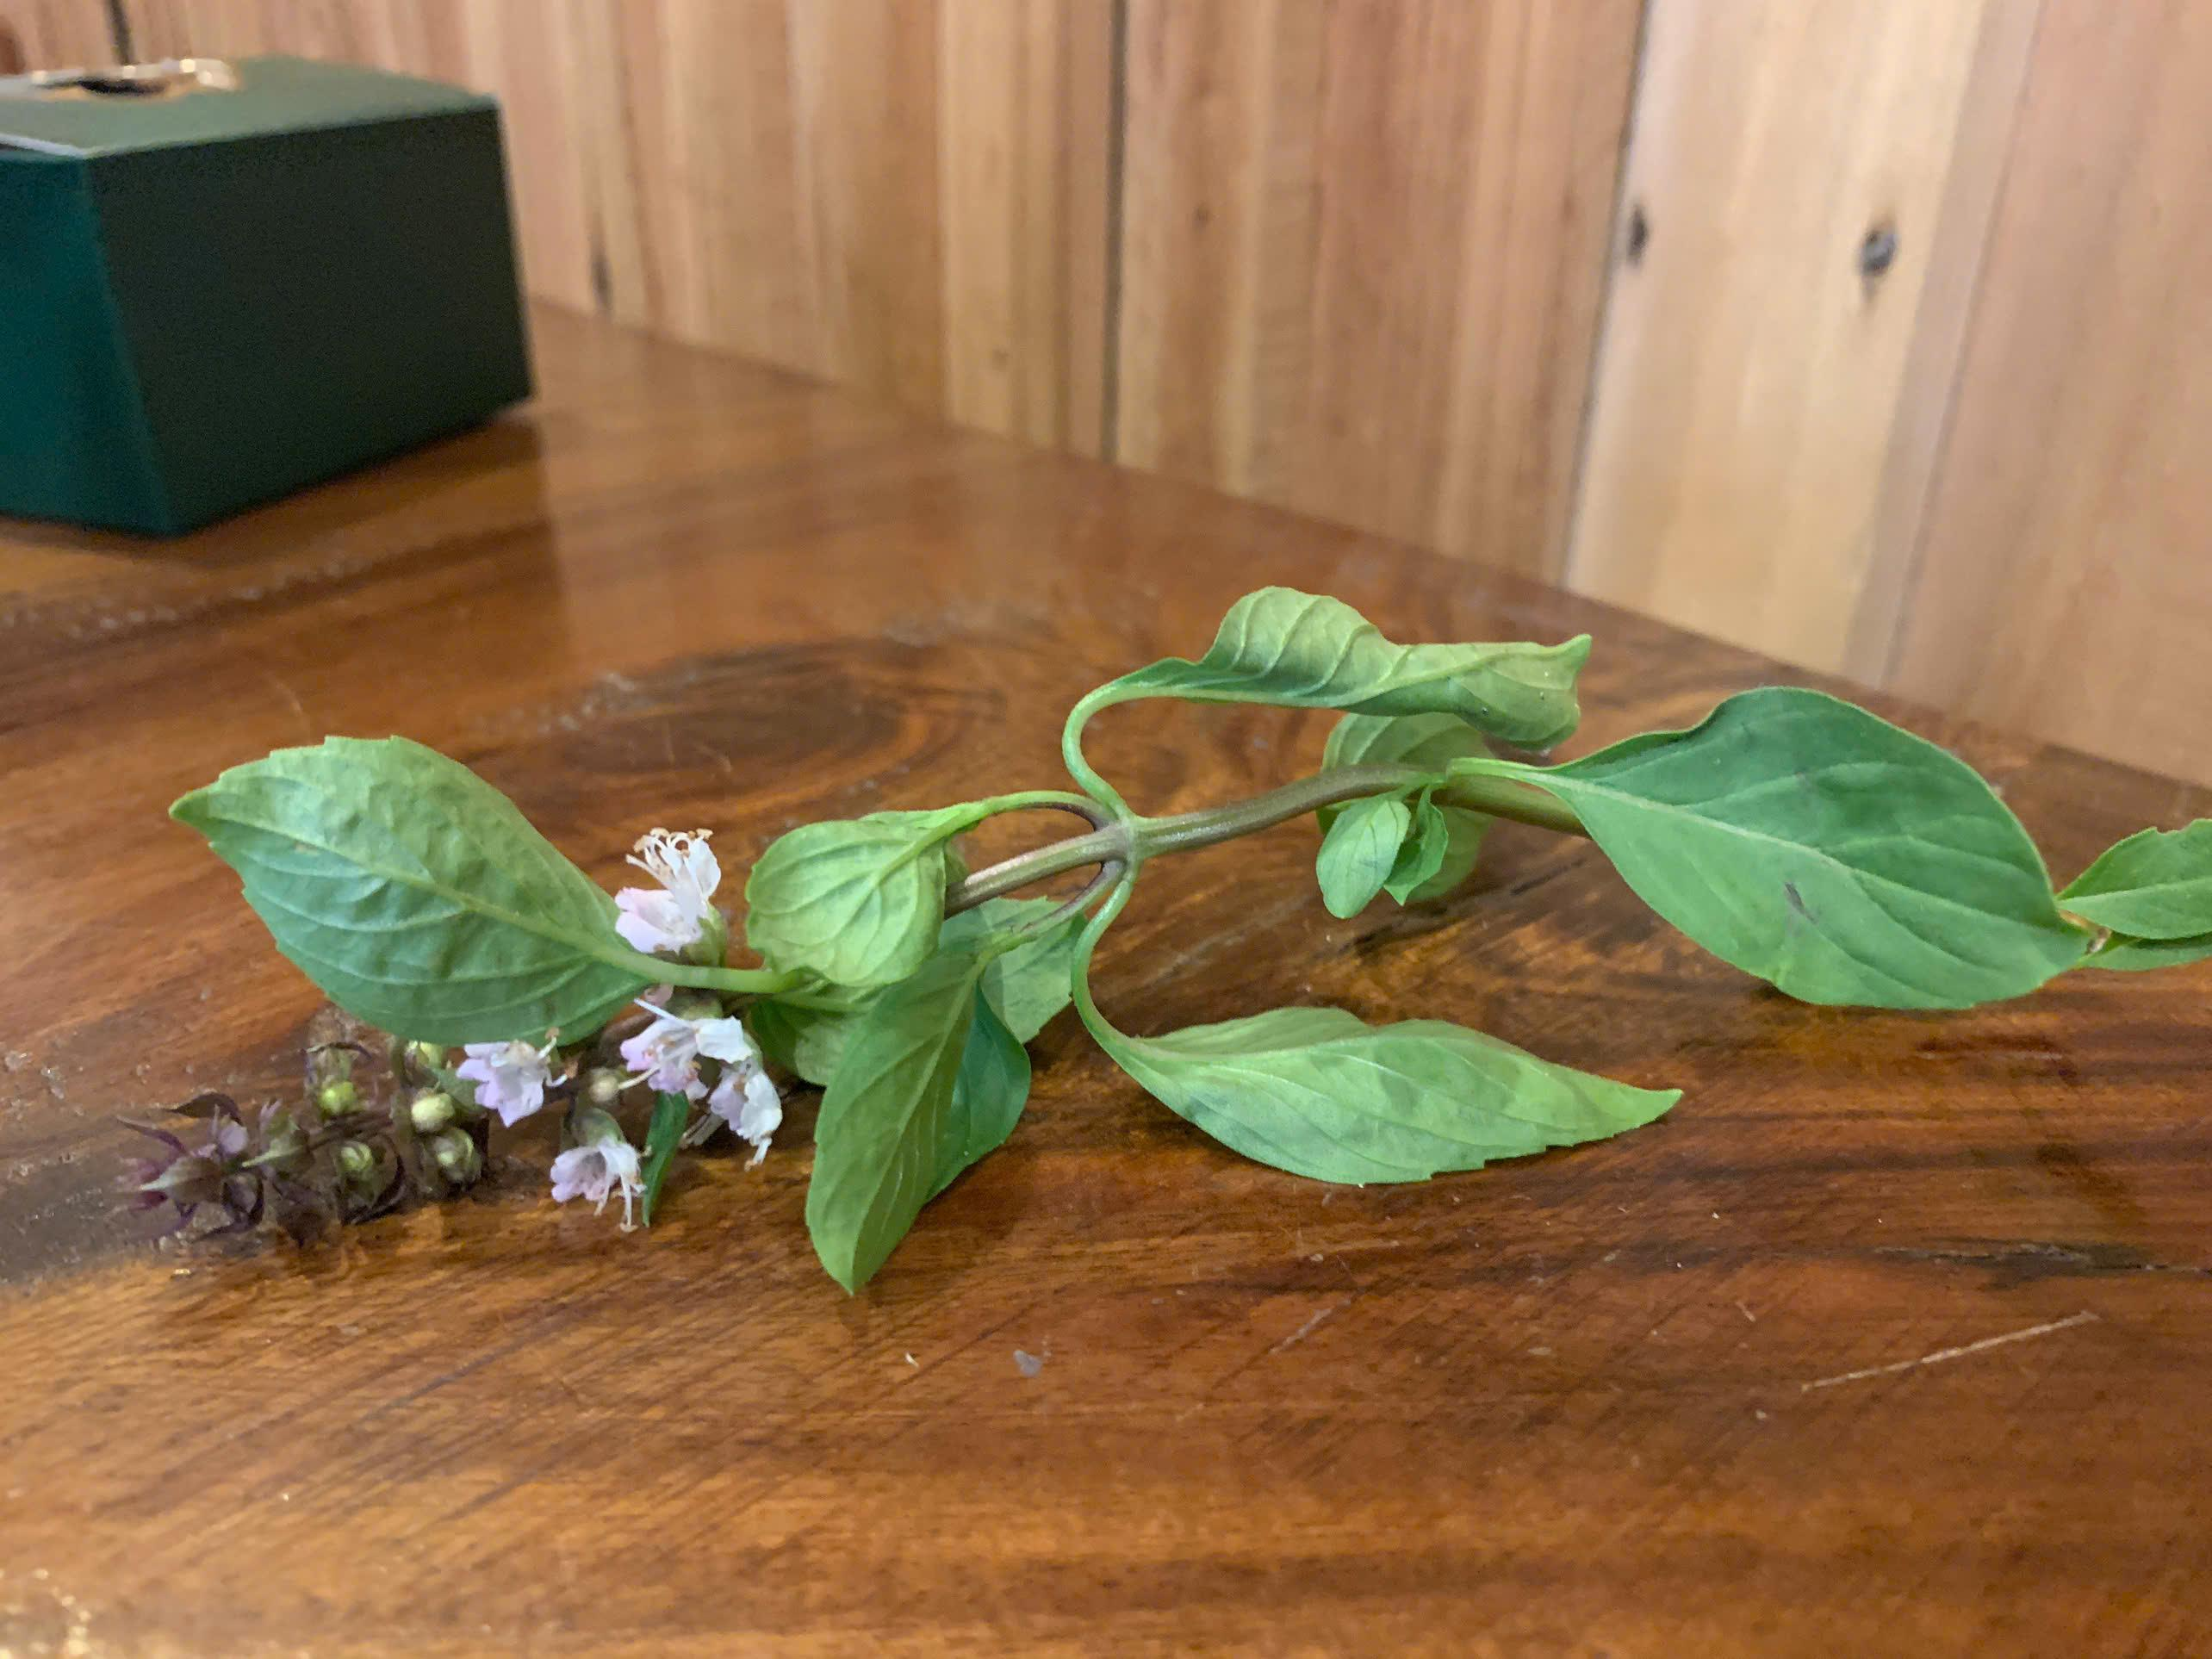Huu co: (186, 575, 2212, 1229)
